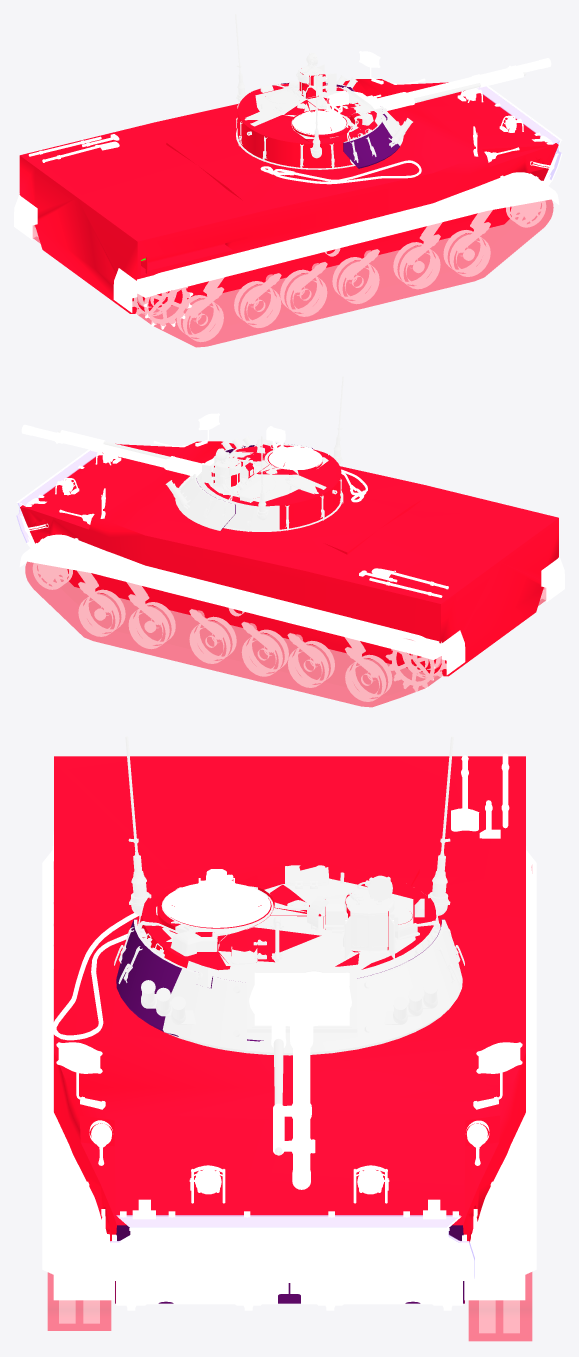
Rendered from BMP3M.gltf.
3 views of the same model, one above another, from view 1: azimuth 30°, elevation 25°; view 2: azimuth 150°, elevation 25°; view 3: azimuth 270°, elevation 25° (orthographic). The views are drawn at different scales.
Visible parts, largest first — view 1: SM_BMP3M_col, BMP3M_2, SM_BMP3M_track_R_col_60, BMP3M_7, SM_BMP3M_turret_col, BMP3M_6, SM_BMP3M_turret_col_1, BMP3M_8, SM_BMP3M_watershield_6_col_69; view 2: SM_BMP3M_col, BMP3M_2, SM_BMP3M_track_L_col_57, BMP3M_7, SM_BMP3M_turret_col, BMP3M_6, BMP3M_8, SM_BMP3M_watershield_6_col_69; view 3: SM_BMP3M_col, BMP3M_2, BMP3M_7, BMP3M_6, SM_BMP3M_turret_col, BMP3M_8, SM_BMP3M_watershield_6_col_69, SM_BMP3M_turret_col_1, SM_BMP3M_track_L_col_57, SM_BMP3M_track_R_col_60, SM_BMP3M_col_1.
Part boxes in pixels (bbox=[...]): SM_BMP3M_col: bbox=[19, 79, 558, 313]; BMP3M_2: bbox=[14, 51, 562, 342]; SM_BMP3M_track_R_col_60: bbox=[132, 199, 553, 347]; BMP3M_7: bbox=[235, 14, 412, 169]; SM_BMP3M_turret_col: bbox=[237, 68, 377, 168]; BMP3M_6: bbox=[352, 58, 551, 110]; SM_BMP3M_turret_col_1: bbox=[272, 83, 399, 168]; BMP3M_8: bbox=[292, 90, 348, 135]; SM_BMP3M_watershield_6_col_69: bbox=[477, 86, 559, 144]; SM_BMP3M_col: bbox=[20, 441, 558, 676]; BMP3M_2: bbox=[16, 413, 564, 701]; SM_BMP3M_track_L_col_57: bbox=[25, 561, 446, 707]; BMP3M_7: bbox=[165, 376, 343, 531]; SM_BMP3M_turret_col: bbox=[204, 444, 341, 529]; BMP3M_6: bbox=[21, 424, 214, 480]; BMP3M_8: bbox=[266, 426, 322, 469]; SM_BMP3M_watershield_6_col_69: bbox=[20, 450, 97, 506]; SM_BMP3M_col: bbox=[54, 756, 525, 1303]; BMP3M_2: bbox=[42, 753, 536, 1333]; BMP3M_7: bbox=[114, 736, 464, 1055]; BMP3M_6: bbox=[249, 971, 351, 1189]; SM_BMP3M_turret_col: bbox=[140, 862, 436, 970]; BMP3M_8: bbox=[162, 869, 270, 927]; SM_BMP3M_watershield_6_col_69: bbox=[116, 1215, 460, 1227]; SM_BMP3M_turret_col_1: bbox=[116, 919, 444, 1041]; SM_BMP3M_track_L_col_57: bbox=[468, 867, 532, 1341]; SM_BMP3M_track_R_col_60: bbox=[47, 862, 111, 1330]; SM_BMP3M_col_1: bbox=[115, 1225, 464, 1303].
Size of the model in its own units: 7.3 by 3.31 by 3.26.
